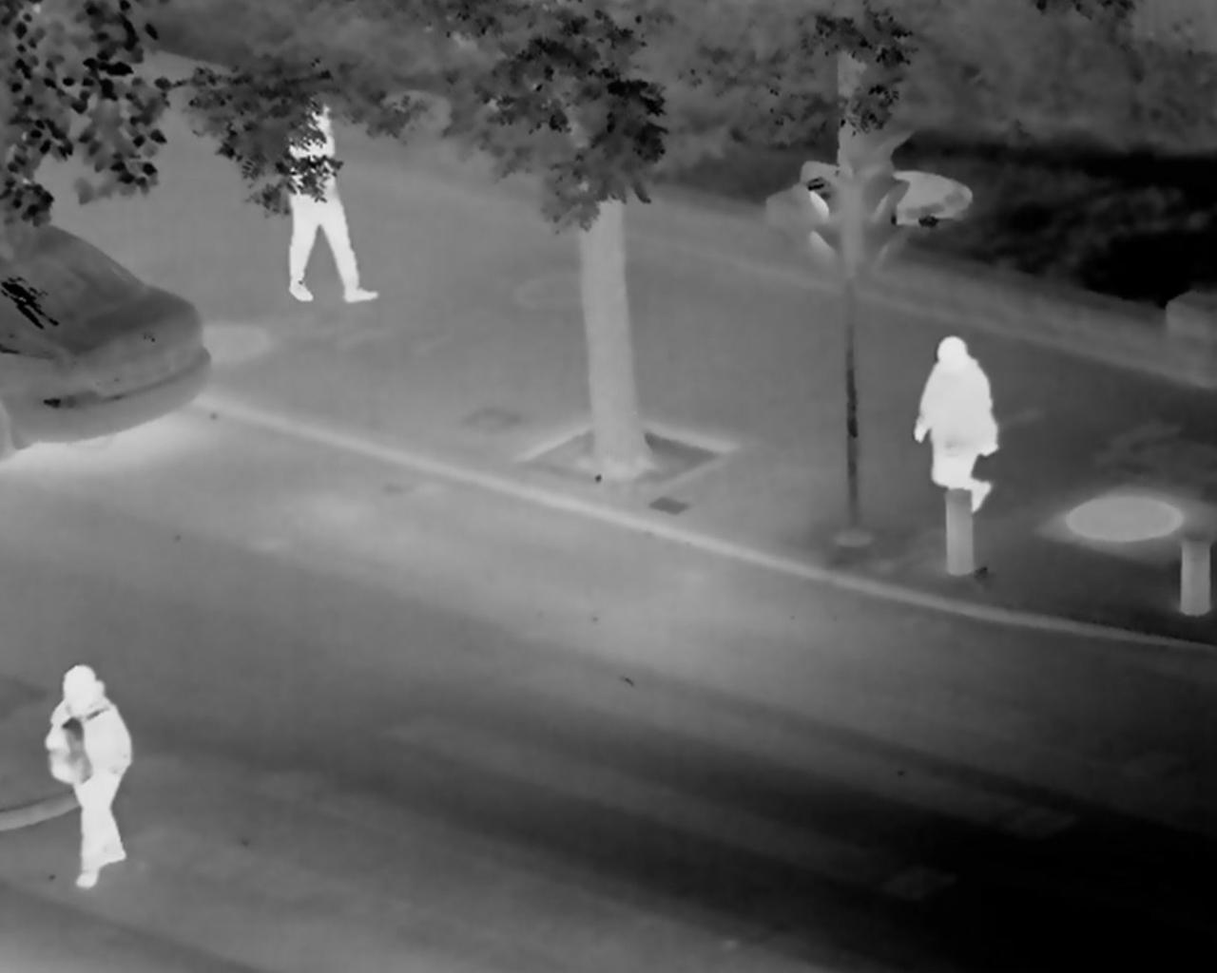person: (52, 650, 139, 893), (912, 334, 1018, 511), (286, 118, 373, 303)
